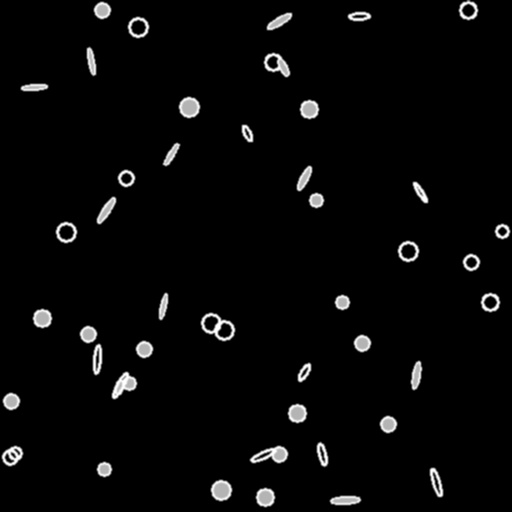pseudomonas: (96, 196, 116, 224), (111, 371, 129, 399), (295, 165, 313, 191), (266, 12, 292, 30), (162, 142, 180, 166), (429, 467, 443, 497), (250, 447, 276, 463), (412, 181, 428, 203), (92, 344, 102, 374), (316, 442, 328, 466), (276, 57, 290, 77), (86, 47, 96, 75), (411, 362, 421, 388), (158, 293, 168, 319), (240, 124, 254, 142), (297, 363, 311, 381), (330, 496, 360, 504), (348, 12, 370, 20), (114, 379, 124, 395), (22, 84, 46, 90)
synechocystis: (399, 242, 417, 260), (202, 314, 220, 332), (212, 481, 230, 499), (57, 223, 75, 241), (180, 98, 198, 116), (129, 18, 147, 36), (215, 321, 233, 339), (265, 54, 281, 70), (301, 101, 317, 117), (460, 2, 476, 18), (482, 294, 498, 310), (34, 310, 50, 326), (289, 405, 305, 421), (257, 489, 273, 505), (81, 327, 95, 341), (95, 3, 109, 17), (137, 342, 151, 356), (272, 447, 286, 461), (119, 171, 133, 185), (3, 450, 17, 464), (4, 394, 18, 408), (355, 336, 369, 350), (381, 417, 395, 431), (464, 255, 478, 269), (496, 225, 508, 237), (123, 377, 135, 389), (336, 296, 348, 308), (310, 194, 322, 206), (98, 463, 110, 475), (9, 447, 21, 459)
